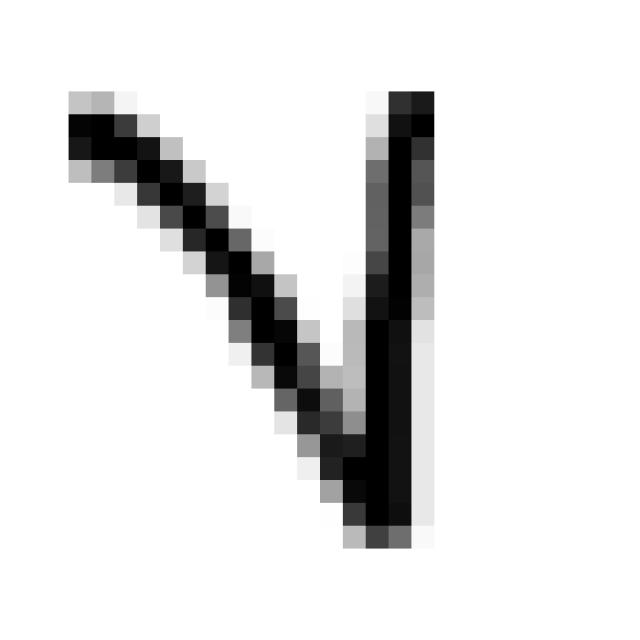7 -seven-: (51, 66, 454, 580)
